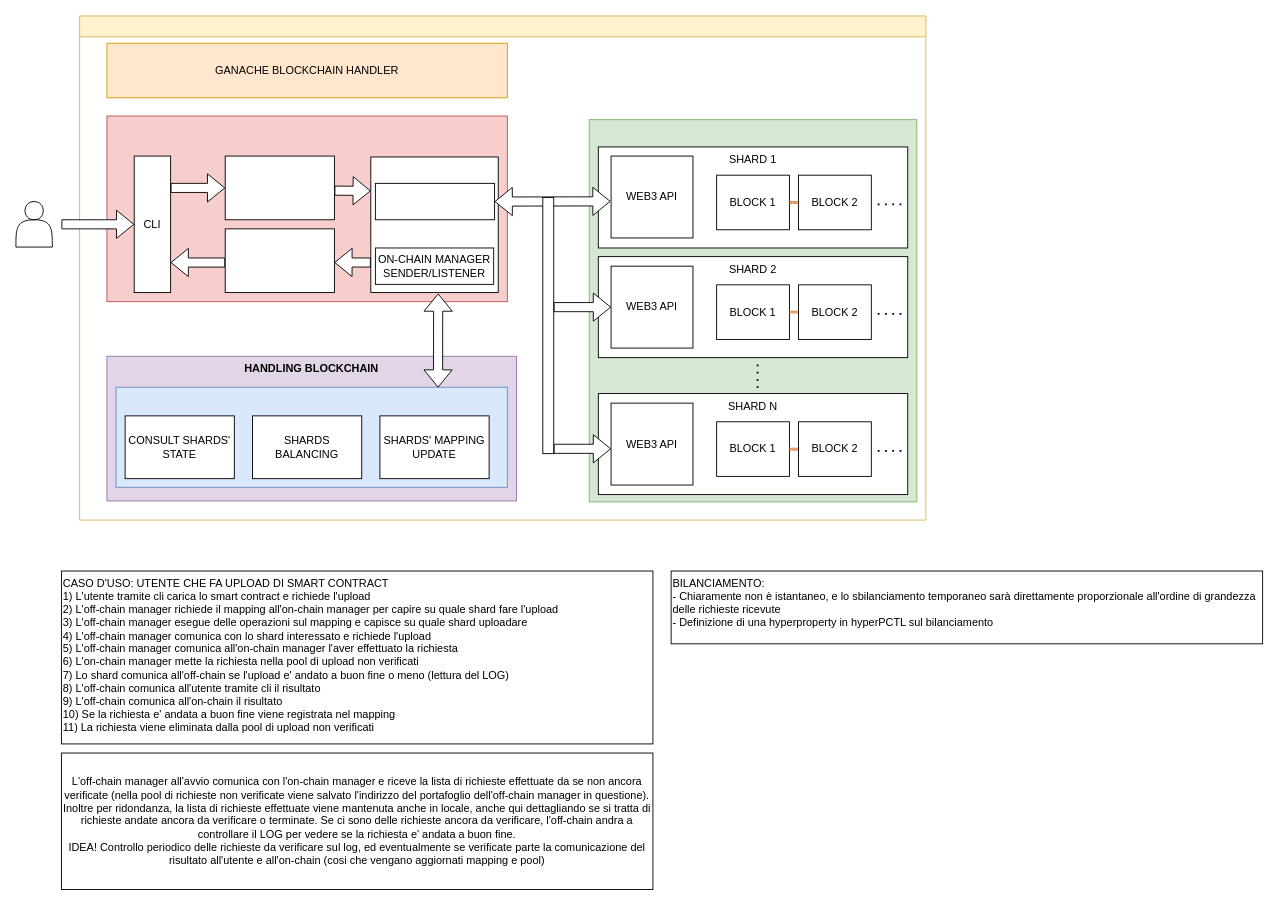
Image size: 1279x905. Some labels were removed from this diagram. Here are the shapes that lost their labels. From the top down, the box of each, then its label:
(224, 155, 334, 220): Request Generation
(374, 182, 495, 220): SHARDS API SENDER/LISTENER
(15, 201, 52, 247): USER
(106, 115, 507, 302): OFF-CHAIN MANAGER
(370, 156, 498, 293): WEB3 API CALLER
(224, 228, 334, 293): Response Translation
(79, 15, 926, 520): BLOCKCHAIN SHARDING
(588, 119, 917, 502): BLOCKCHAIN SHARDS
(115, 386, 507, 487): ON-CHAIN MANAGER (SMART CONTRACT)
